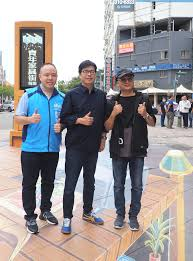people: (19, 64, 65, 225), (108, 70, 152, 232), (64, 60, 104, 231), (180, 94, 190, 126), (167, 94, 176, 128), (159, 94, 166, 127)
